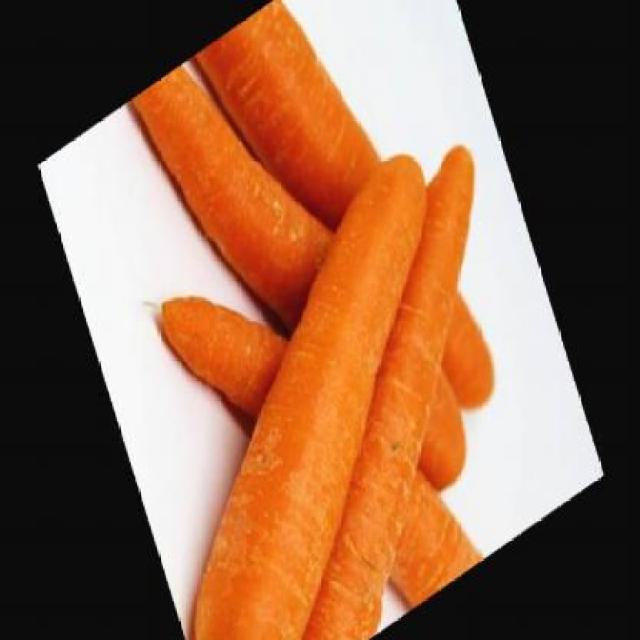carrot: (102, 143, 530, 639), (158, 135, 578, 639), (130, 0, 479, 605), (152, 156, 492, 638), (189, 0, 503, 514)
